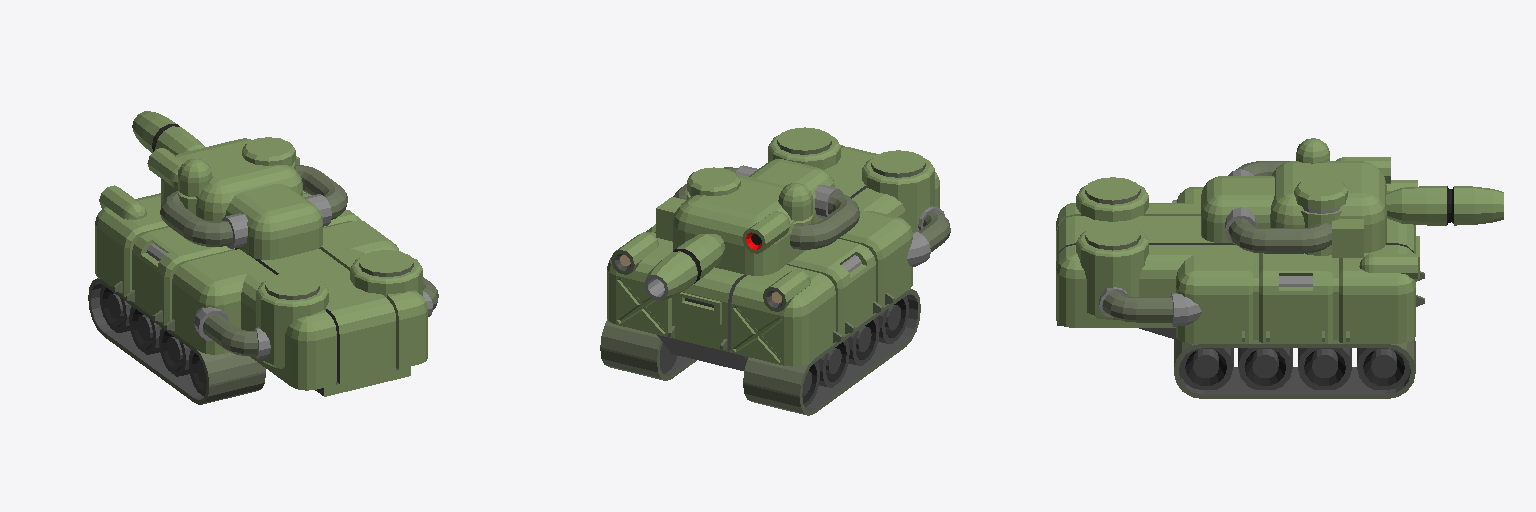
File: tank.obj
3 renders of one model, left to right at view 1: azimuth 30°, elevation 25°; view 2: azimuth 150°, elevation 25°; view 3: azimuth 270°, elevation 25°, orthographic.
Visible parts, largest first — view 1: body, head; view 2: body, head; view 3: body, head.
Part boxes in pixels (x1,y1,x2,y2): body: (88,185,438,404); head: (132,111,347,259); body: (600,127,950,415); head: (644,159,859,299); body: (1056,177,1424,398); head: (1201,138,1503,257).
Size of the model in its own units: 0.8372 by 0.6869 by 1.47.